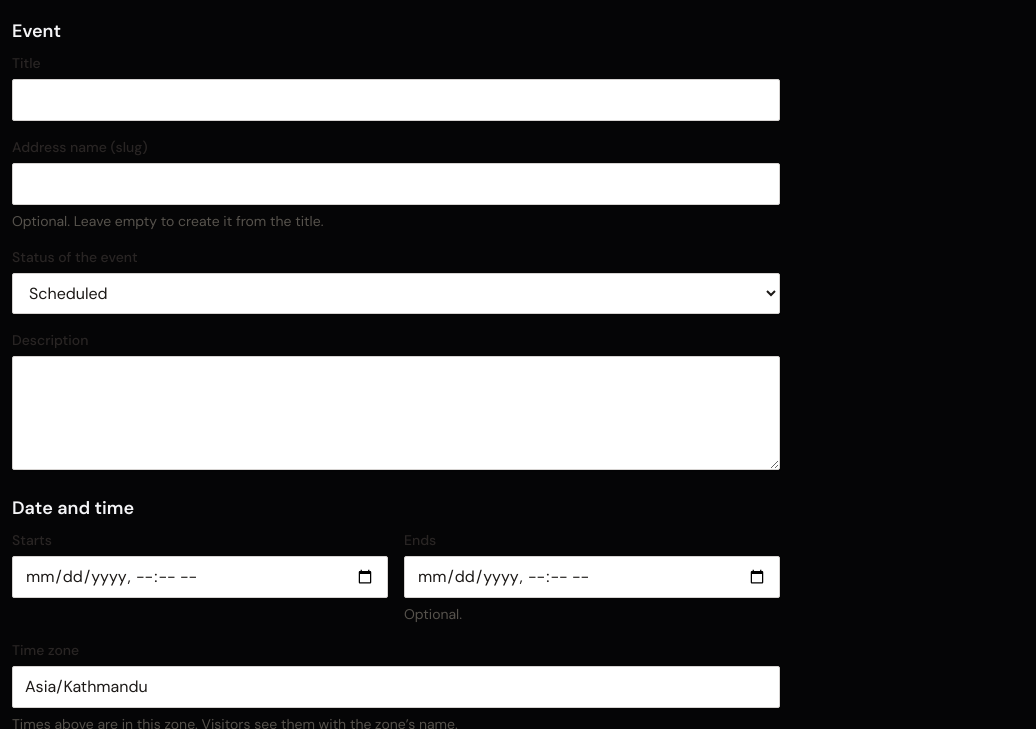
Test case: event editor › requires a start time
Type "Recital" into the field labelled "Title".
click(396, 100); type("Recital")  # box x1=12 y1=79 x2=780 y2=121
(page scrolled)
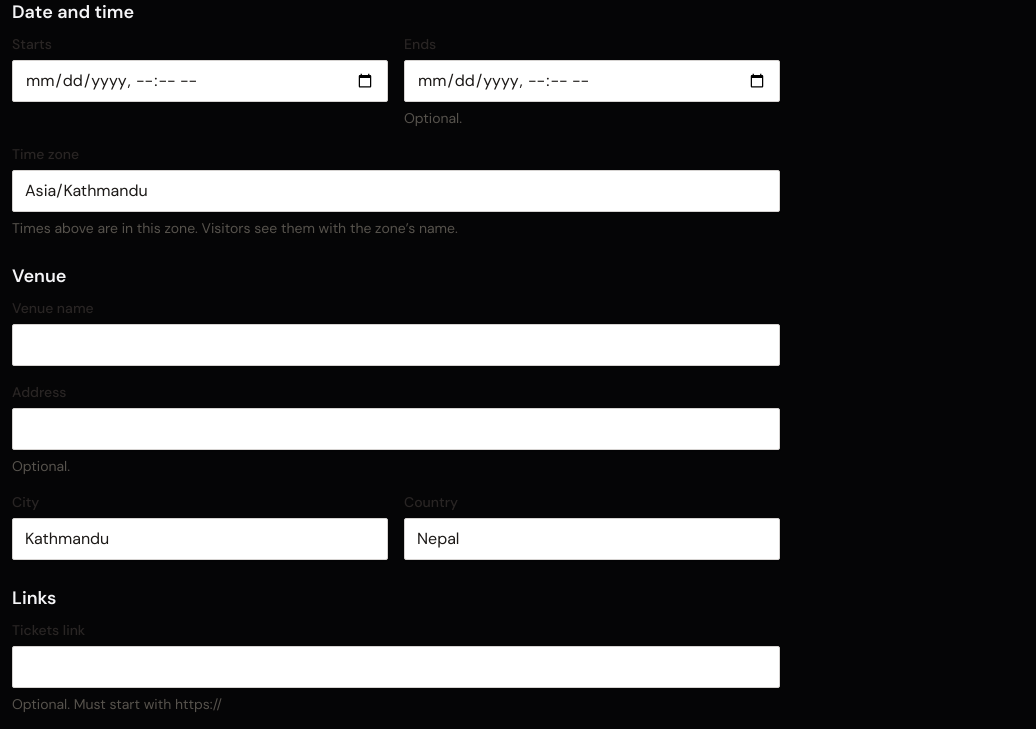
Type "Hall" into the field labelled "Venue name".
click(396, 345); type("Hall")  # box x1=12 y1=324 x2=780 y2=366
(page scrolled)
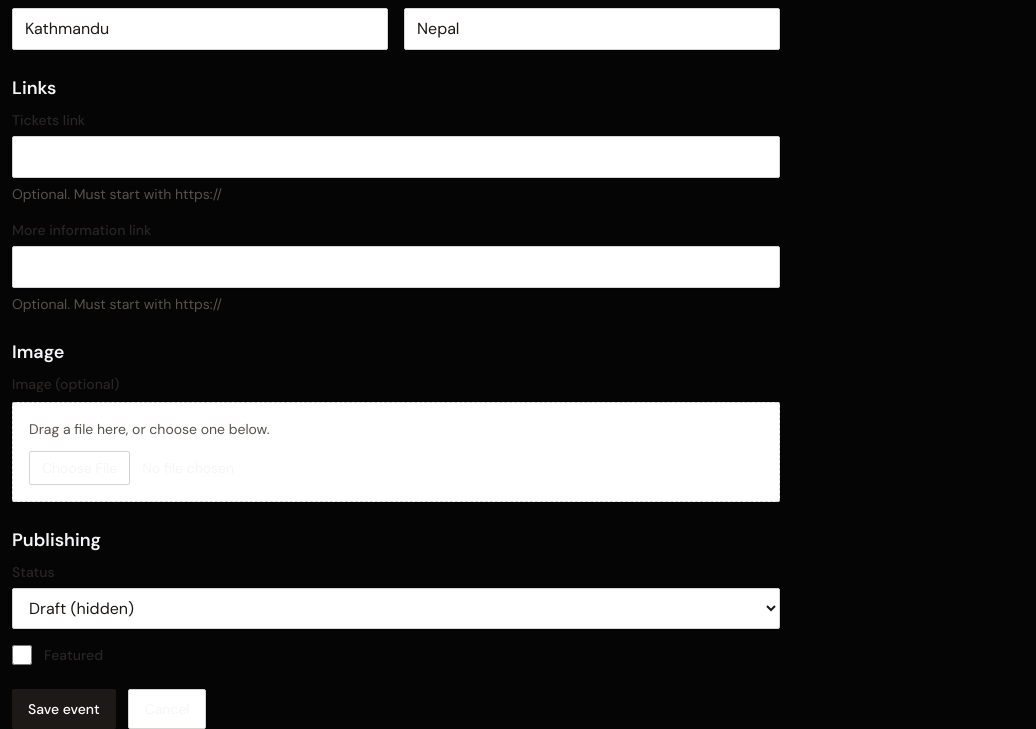
Click the button "Save event".
click(64, 709)  # box x1=12 y1=689 x2=116 y2=728
(page scrolled)
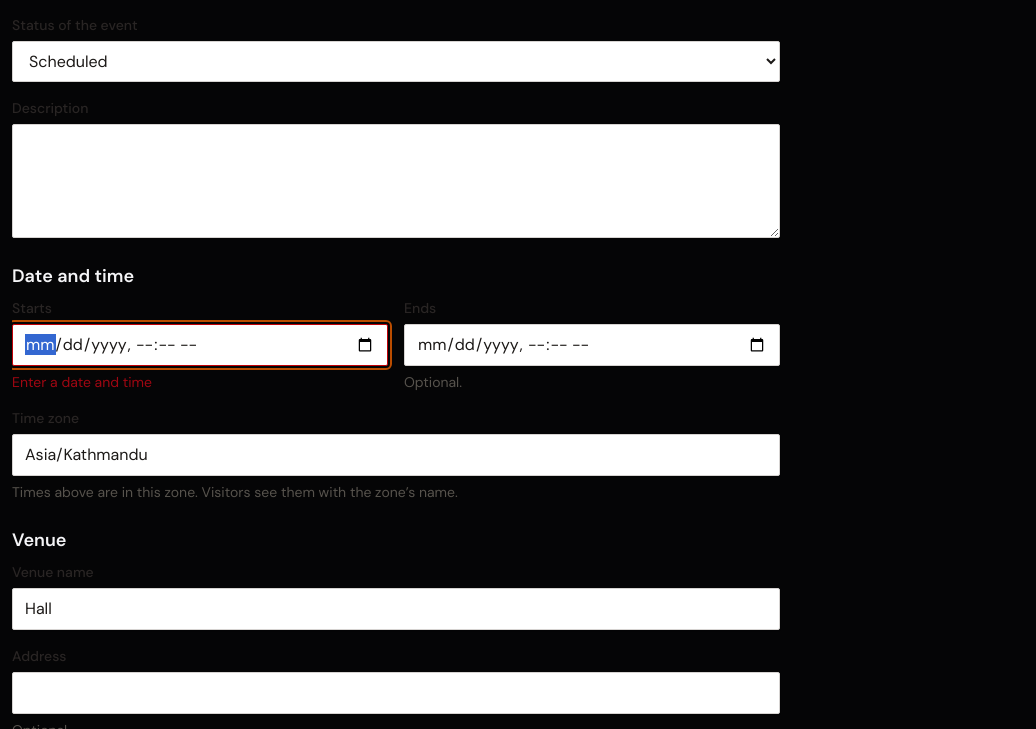
Check: the text "Enter a date and time" is shown, box x1=12 y1=373 x2=152 y2=391
